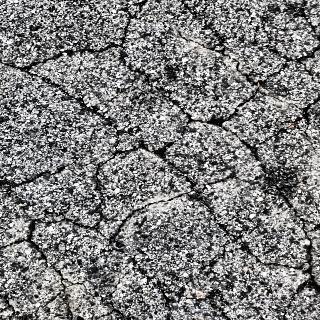alligator-crack: (0, 0, 317, 320), (15, 26, 171, 203), (63, 167, 206, 320), (206, 35, 320, 225)
